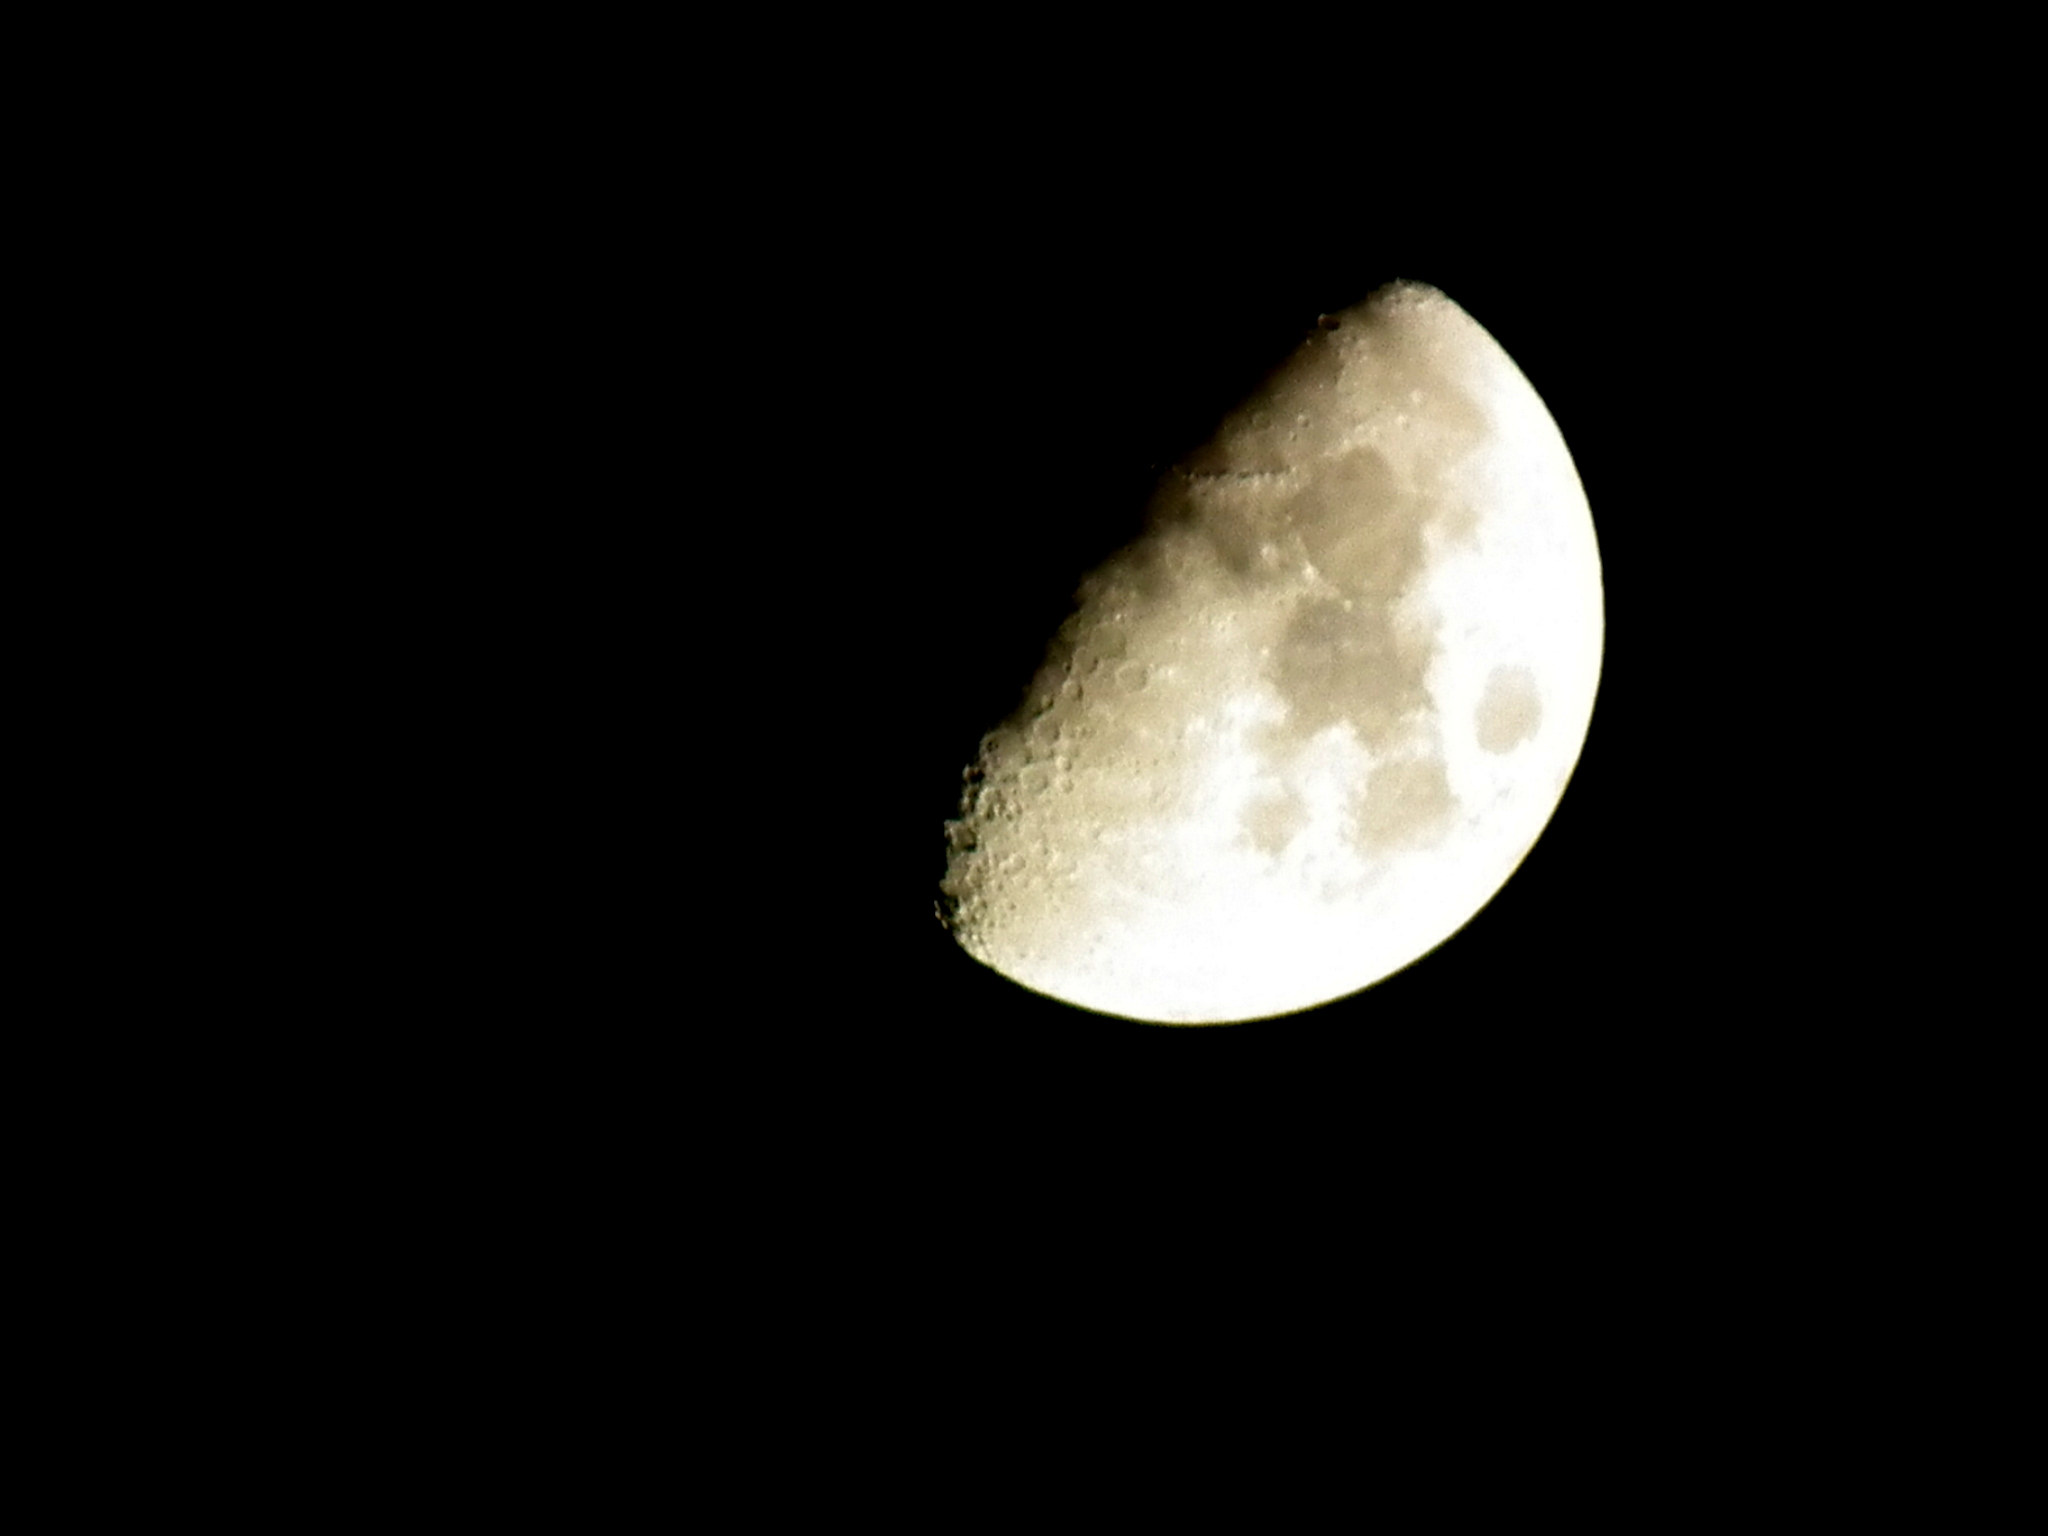crater: (1111, 660, 1153, 699), (1077, 918, 1121, 945), (1405, 376, 1435, 415), (1390, 411, 1417, 436), (1255, 641, 1285, 658)
